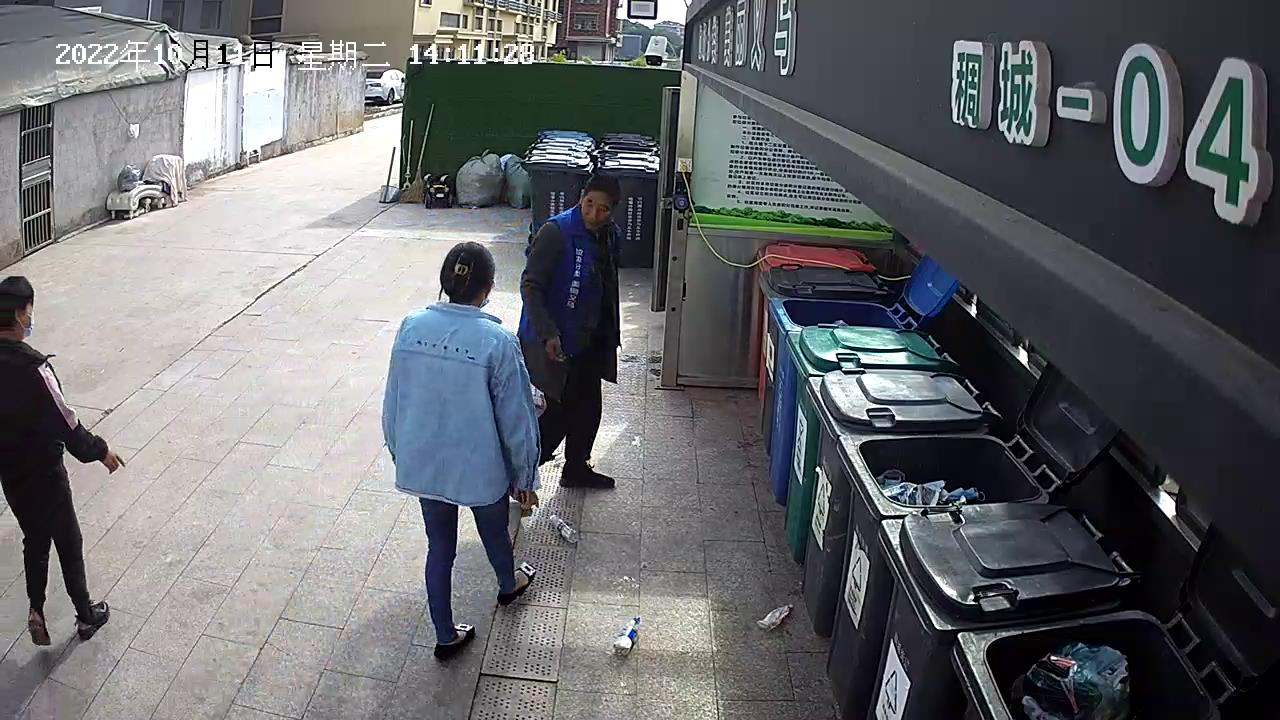person: (1, 276, 129, 650)
suliaozhipin: (609, 613, 646, 657), (755, 601, 797, 629), (547, 511, 579, 546)
worker: (377, 240, 543, 669), (517, 171, 627, 492)
